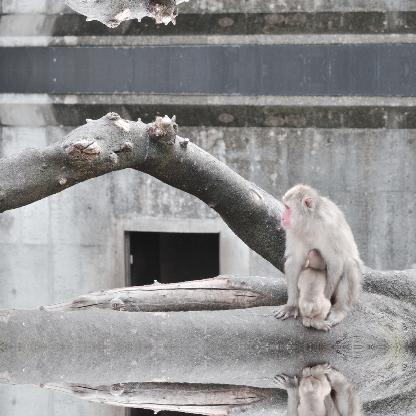Monkey: (277, 182, 363, 336), (277, 355, 364, 415), (294, 248, 334, 332), (293, 360, 335, 415)
